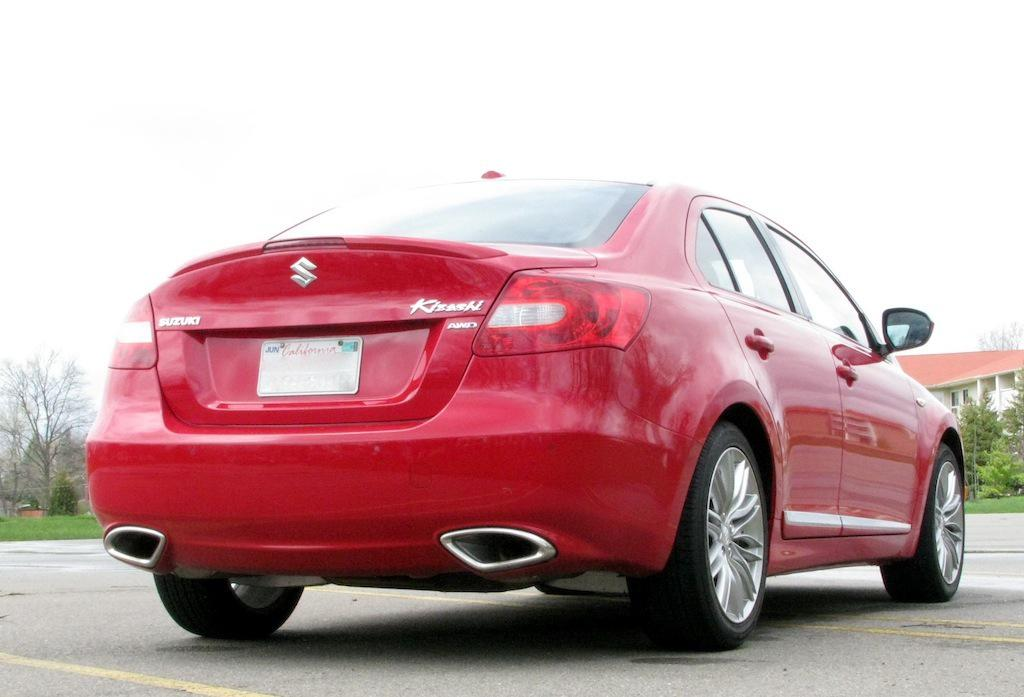Car: (58, 145, 993, 659)
